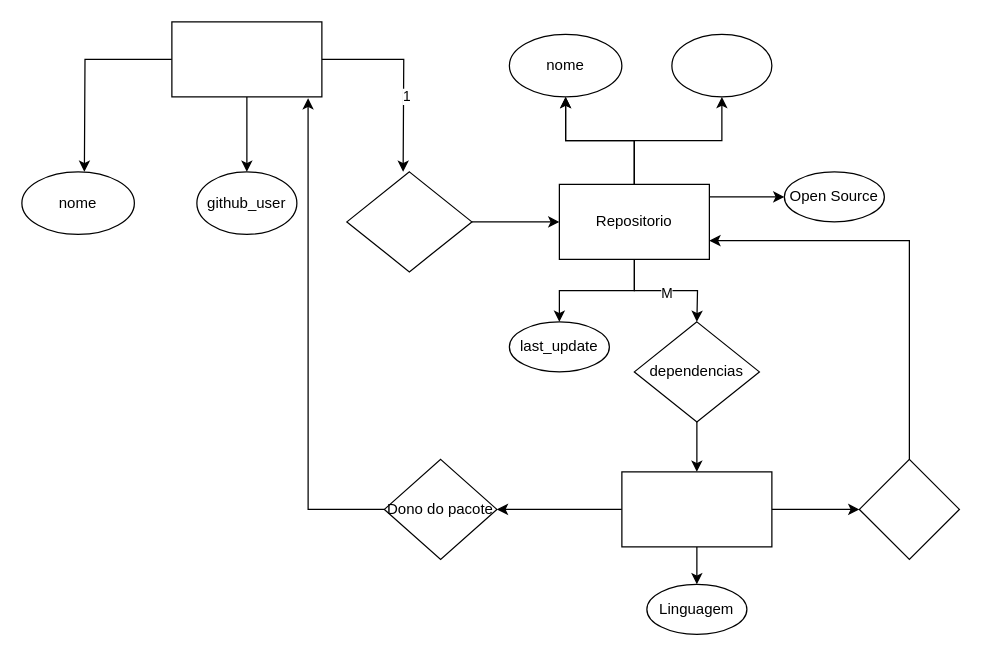
This 981x656 diagram has some shape labels left out. Here are the shapes that lost their labels. From the top down, the centre of each, then its label:
point (246, 59): Proprietario
point (721, 65): creation_date
point (409, 221): Dono do repo
point (696, 509): Pacotes
point (908, 508): Repo do pacote
